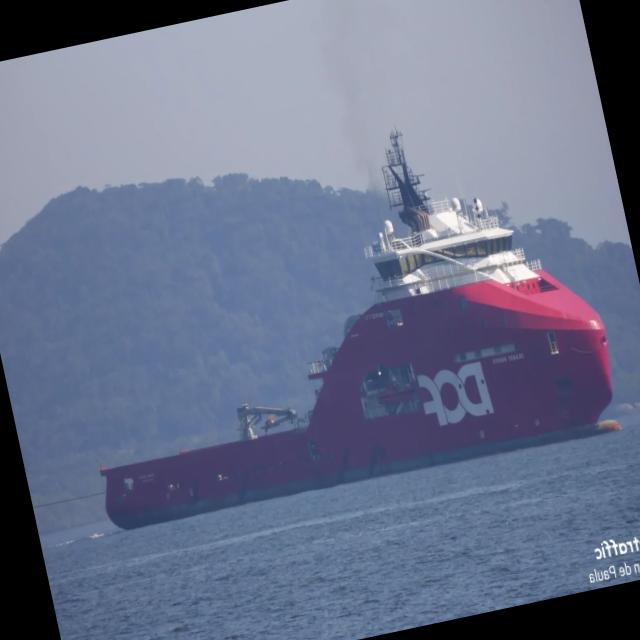Offshore: (101, 132, 612, 528)
